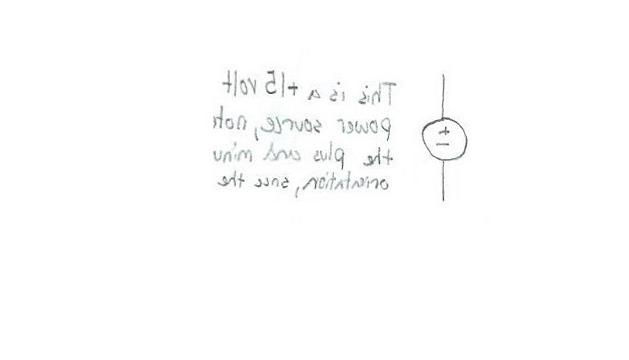Battery: (405, 105, 478, 170)
